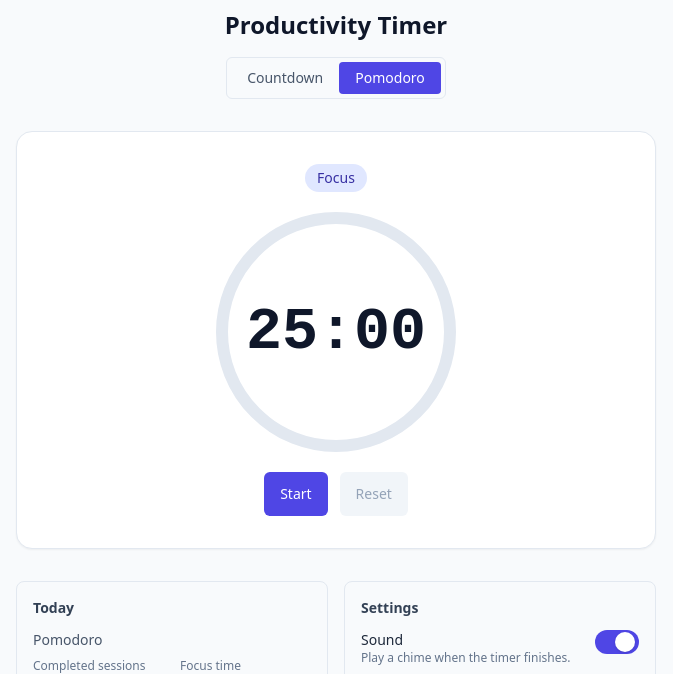
Test case: Pomodoro focus completion › records exactly one focus session, accumulates time, advances to break
Expected: the text "Focus" is shown, [305,164,367,192]
Expected: the text "25:00" is shown, [246,302,426,362]
Click the button "Start" at (296, 494), box [264,472,328,516]
Wait 250 ms
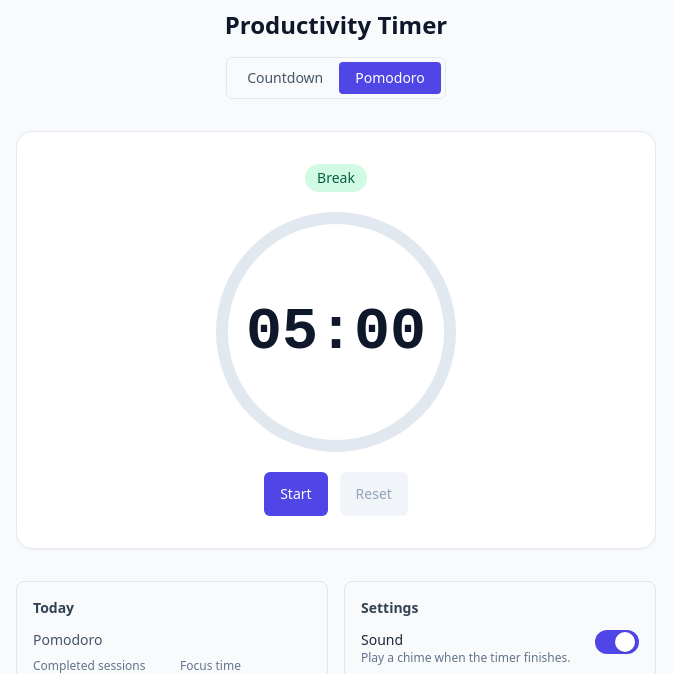
Expected: the text "Break" is shown, [305,164,367,192]
Expected: the text "05:00" is shown, [246,302,426,362]
